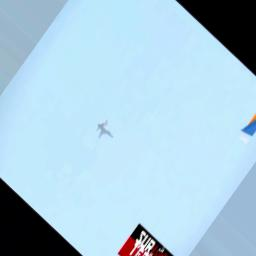Airplane: (96, 119, 115, 139)
